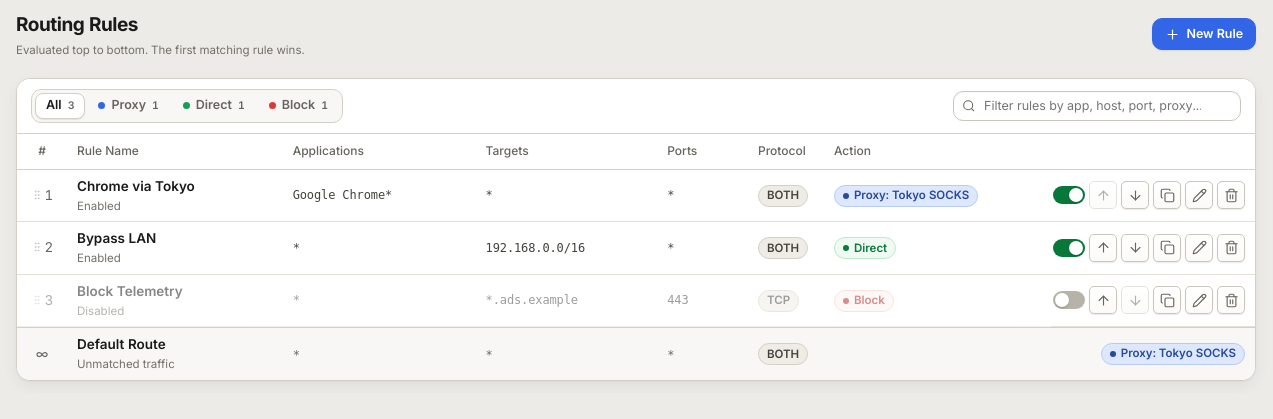
Test: filters rules by action and multi-word search, locks reordering while filtered, and resets filters
The image size is (1273, 419).
Expected: the button named "Move Up" in the row of "Bypass LAN" is enabled, [1089,234,1117,262]
Click the button "Block 1" at (298, 106), box [258,93,339,119]
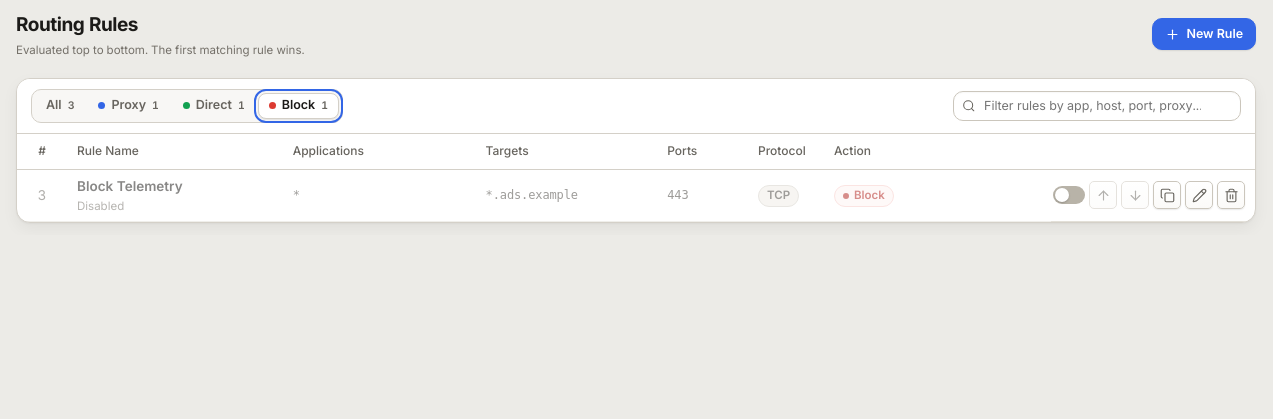
Expected: the text "Block Telemetry" is shown, [77,178,183,194]
Expected: the text "Chrome via Tokyo" is gone
Switch back to All and search multi-word ("chrome tokyo")
Click the button "All 3" at (60, 106), box [35,93,85,119]
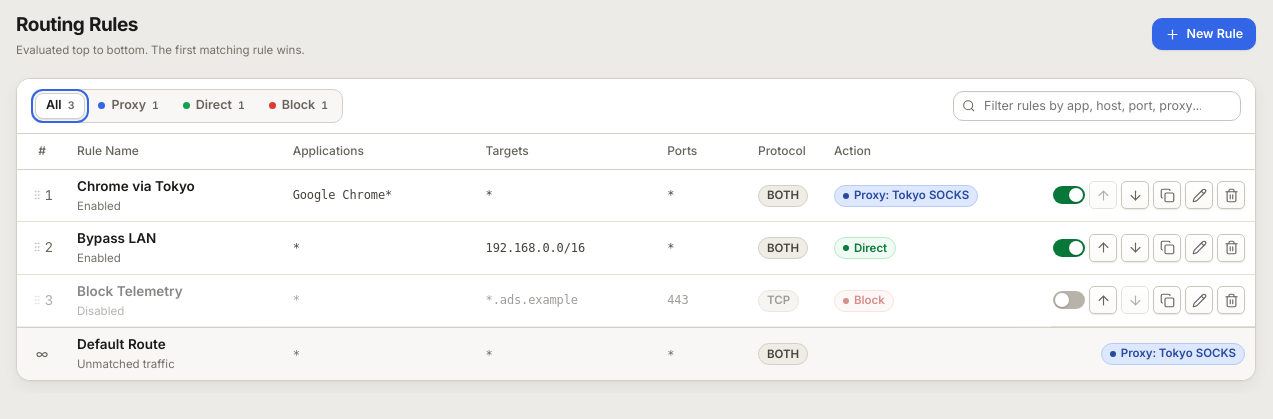
Type "chrome tokyo" into the search field labelled "Filter rules by app, host, port, proxy..." at (1097, 106), box [953,91,1241,121]
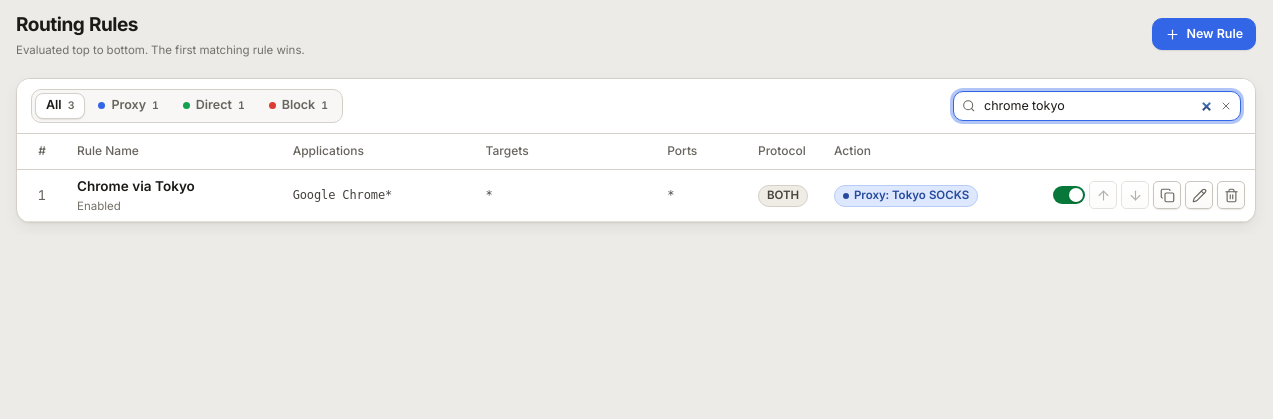
Expected: the text "Chrome via Tokyo" is shown, [77,178,195,194]
Expected: the text "Bypass LAN" is gone
Non-matching query shows filtered empty state with Clear Filters
Replace the text in the search field named "Filter rules by app, host, port, proxy..." with "nonexistent-host-xyz" at (1097, 106), box [953,91,1241,121]
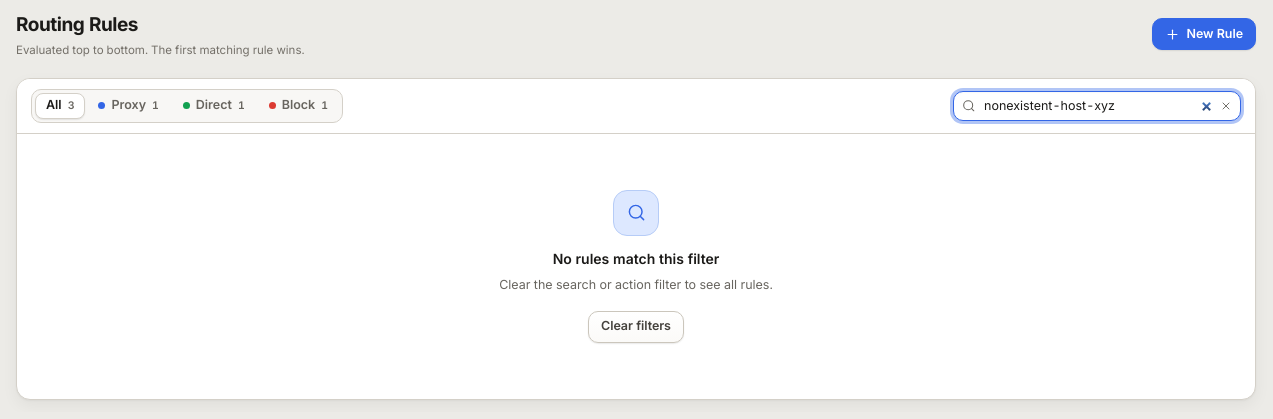
Expected: the text "No rules match this filter" is shown, [553,248,719,269]
Click the button "Clear filters" at (636, 327), box [588,311,684,343]
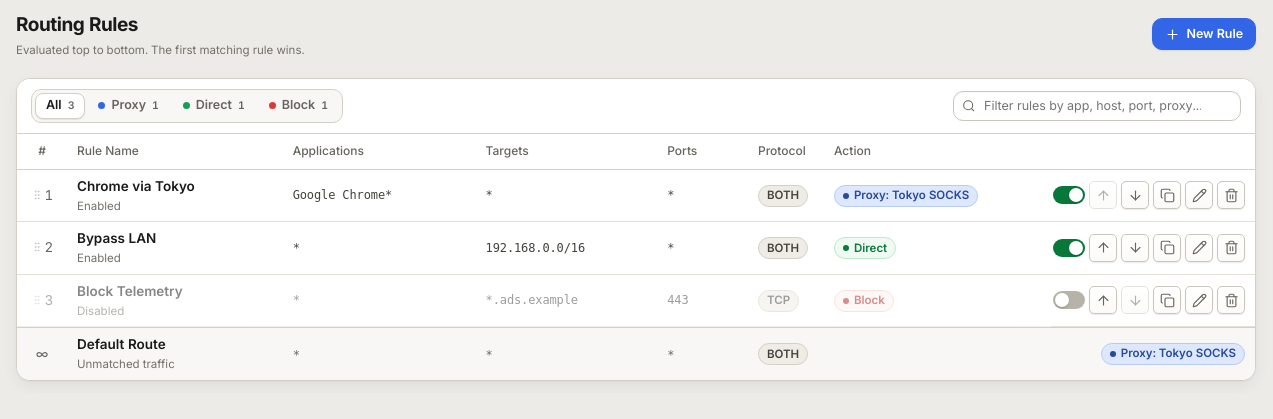
Expected: the text "Chrome via Tokyo" is shown, [77,178,195,194]
Expected: the text "Bypass LAN" is shown, [77,230,156,246]
Expected: the text "Block Telemetry" is shown, [77,283,183,299]
